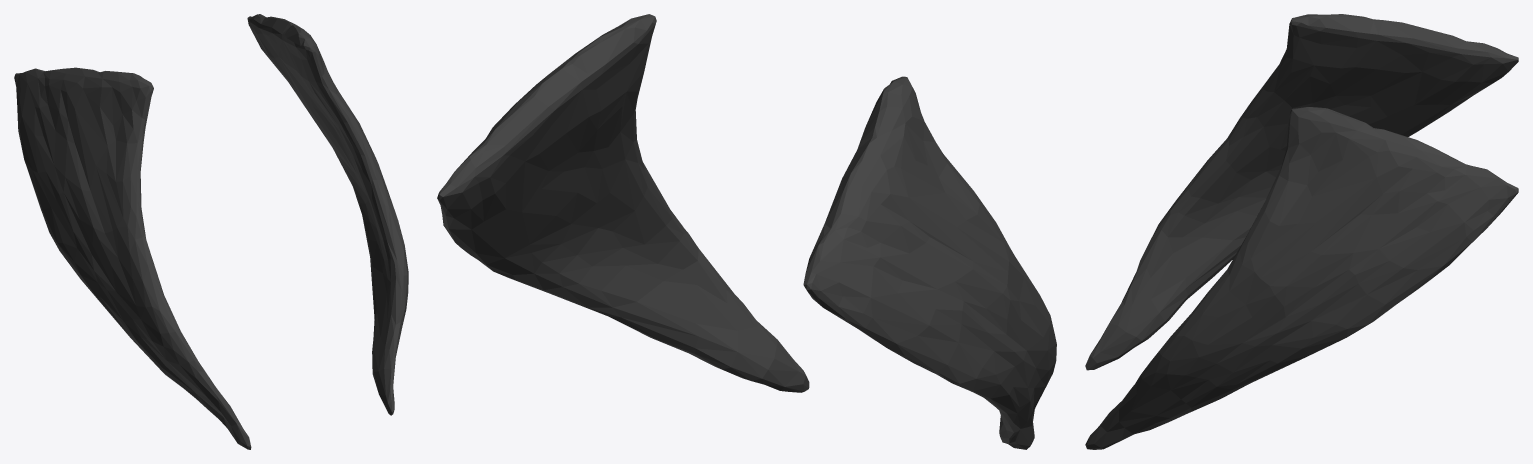
File: m_latissimus_dorsi.glb
The picture shows the model from 3 angles, left to right: view 1: azimuth 30°, elevation 25°; view 2: azimuth 150°, elevation 25°; view 3: azimuth 270°, elevation 25°; orthographic projection. The views are drawn at different scales.
Parts seen in each view (by area): view 1: m_latissimus_dorsi; view 2: m_latissimus_dorsi; view 3: m_latissimus_dorsi.
Boxes of the visible parts, <box> form: m_latissimus_dorsi: <box>14,14,408,449</box>; m_latissimus_dorsi: <box>437,14,1056,449</box>; m_latissimus_dorsi: <box>1085,14,1518,449</box>.
Size of the model in its own units: 0.0074 by 0.00715 by 0.00806.
1 material, 1 textured.
